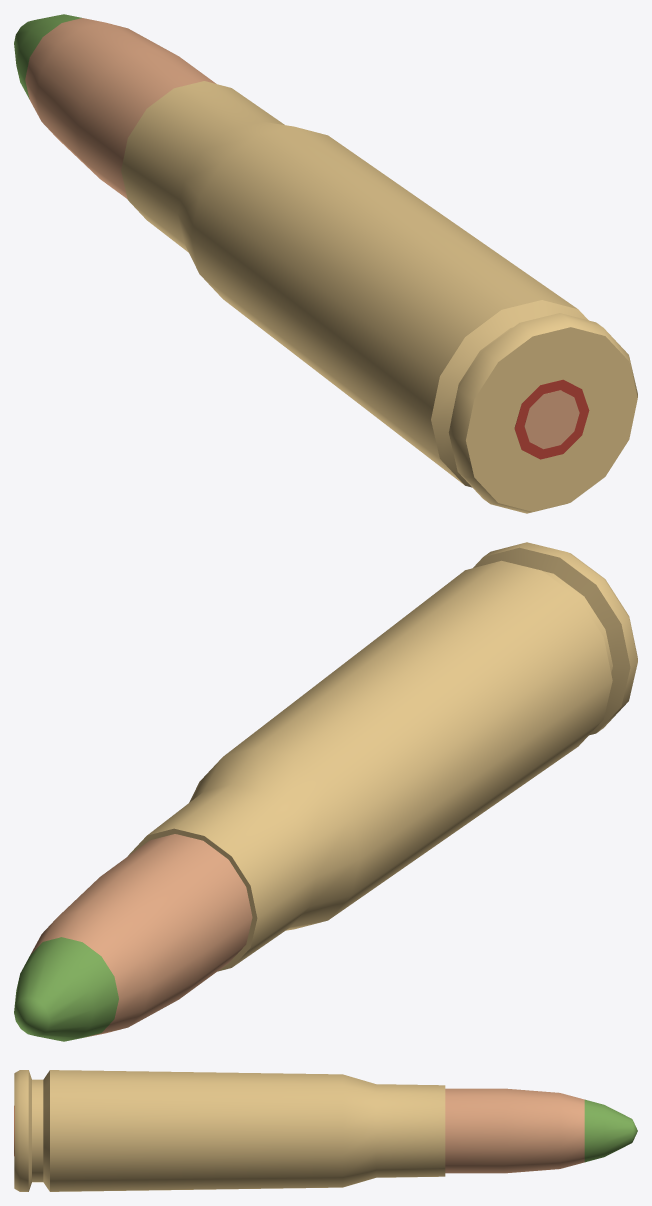
File: round_762x39_tracer.glb
The picture shows the model from 3 angles, top to bottom: view 1: azimuth 30°, elevation 25°; view 2: azimuth 150°, elevation 25°; view 3: azimuth 270°, elevation 25°; orthographic projection. The views are drawn at different scales.
Parts seen in each view (by area): view 1: body; view 2: body; view 3: body.
Boxes of the visible parts, left/top/right/bottom form: body: left=14, top=14, right=637, bottom=513; body: left=14, top=542, right=637, bottom=1041; body: left=14, top=1070, right=637, bottom=1191.
Size of the model in its own units: 0.0112 by 0.0109 by 0.056.
